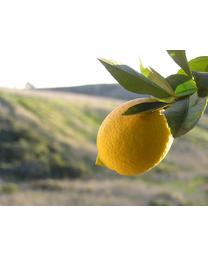lemon: (94, 96, 174, 177)
